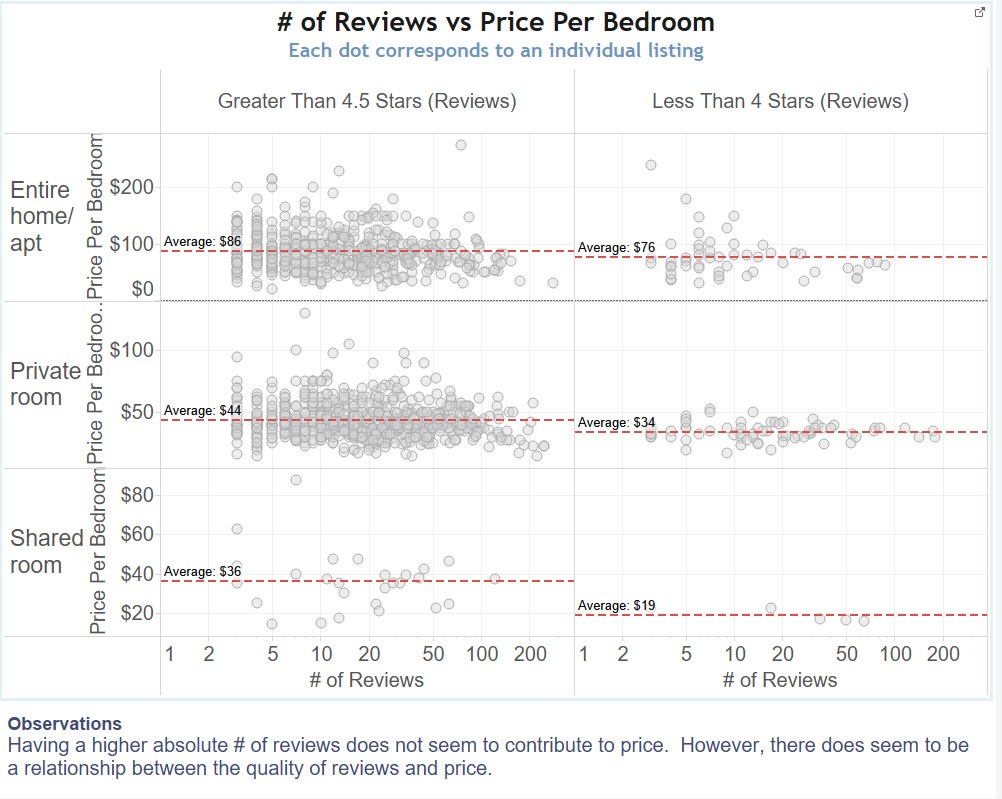

This screenshot's page, from the dashboard's own definition file:
{"tool":"tableau","page":{"name":"Reviews vs. Price","canvas":[1000,800],"ordinal":1},"visuals":[{"type":"worksheet","title":"# of Reviews vs Price Per Bedroom","mark":"Circle","rows":["SD_PropType","Calculation_0491206113447399"],"cols":["SD_NumReviews"],"box":[0,0,1000,702]},{"type":"text","box":[0,702,1000,98]}]}

Visuals, with their boxes in screenshot pixels (x1, y1, x2, y2), scaled from the page's 1000x800 canvas onto the 1002x799 screenshot:
"# of Reviews vs Price Per Bedroom" worksheet (Circle marks): rect(0, 0, 1001, 701)
text: rect(0, 701, 1001, 798)
